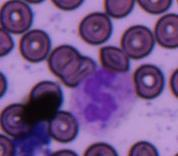N: (68, 66, 136, 133)
